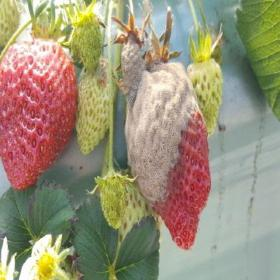Gray Mold: (124, 6, 208, 217), (105, 8, 158, 105)
